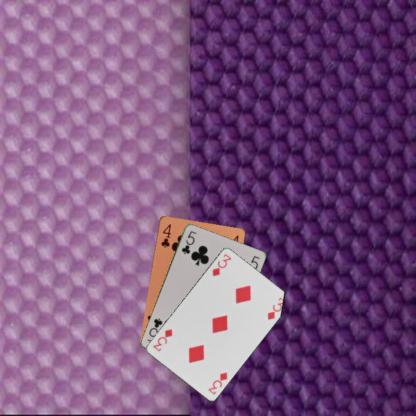3d: (210, 251, 233, 278), (206, 369, 228, 396)
4c: (158, 221, 172, 249)
5c: (179, 228, 198, 256)
